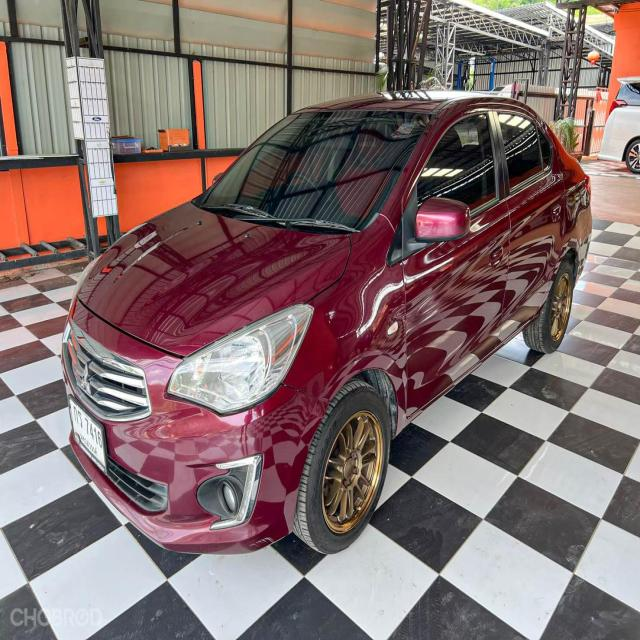license_plate: (66, 392, 111, 478)
